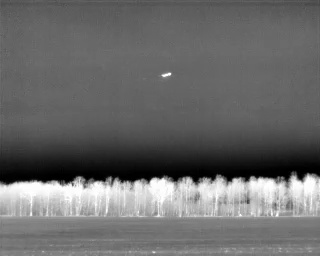DRONE: (158, 68, 175, 82)
